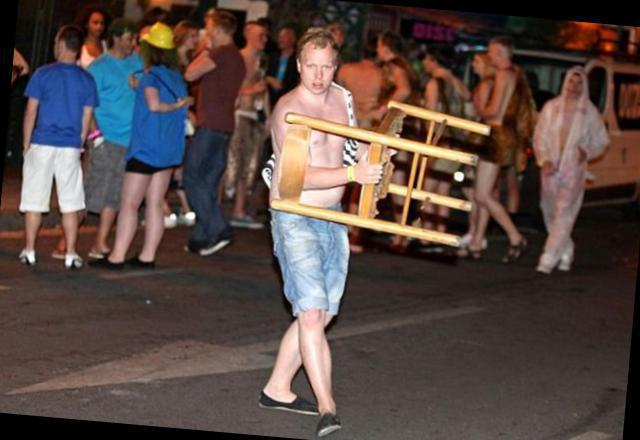Drunk: (301, 45, 338, 94)
